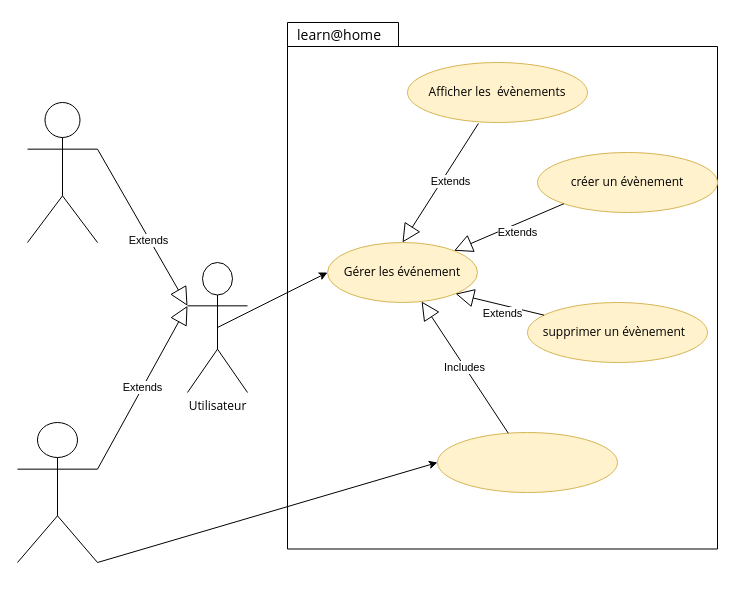
The diagram is 735 pixels wide and 600 high, and some of its shapes have lost their labels. The box of each missing label's shape, as (x1, y1, x2, y2) in pixels:
Affecter un événement: (436, 432, 618, 492)
Eléve: (16, 422, 98, 562)
Tuteur: (26, 102, 98, 242)
